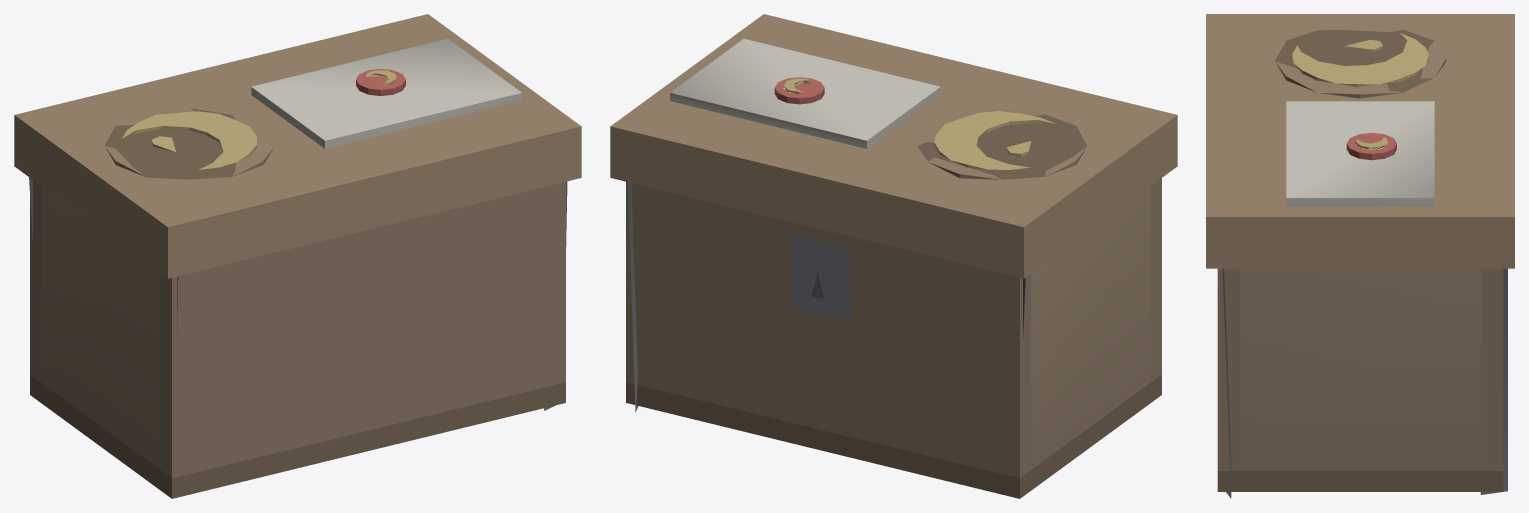
File: story_lantern_box_low.glb
3 views of the same model, side by side, from view 1: azimuth 30°, elevation 25°; view 2: azimuth 150°, elevation 25°; view 3: azimuth 270°, elevation 25° (orthographic).
Parts seen in each view (by area): view 1: story.lantern_box, lid, letter; view 2: story.lantern_box, lid, letter; view 3: story.lantern_box, lid, letter.
Part boxes in pixels (left/top/right/bottom): story.lantern_box: left=29, top=177, right=567, bottom=498; lid: left=14, top=14, right=581, bottom=278; letter: left=251, top=38, right=521, bottom=148; story.lantern_box: left=626, top=178, right=1161, bottom=498; lid: left=610, top=14, right=1177, bottom=278; letter: left=670, top=38, right=940, bottom=148; story.lantern_box: left=1217, top=268, right=1509, bottom=498; lid: left=1206, top=14, right=1514, bottom=268; letter: left=1286, top=101, right=1434, bottom=206.
Size of the model in its own units: 0.42 by 0.2925 by 0.27.
